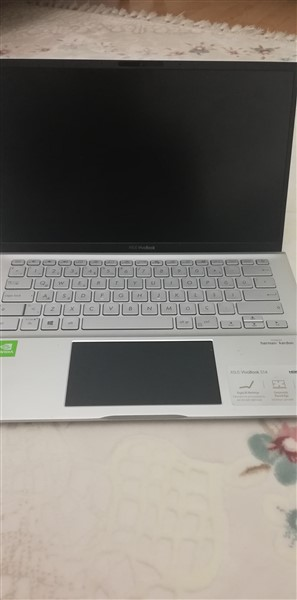laptop: (1, 50, 297, 431)
